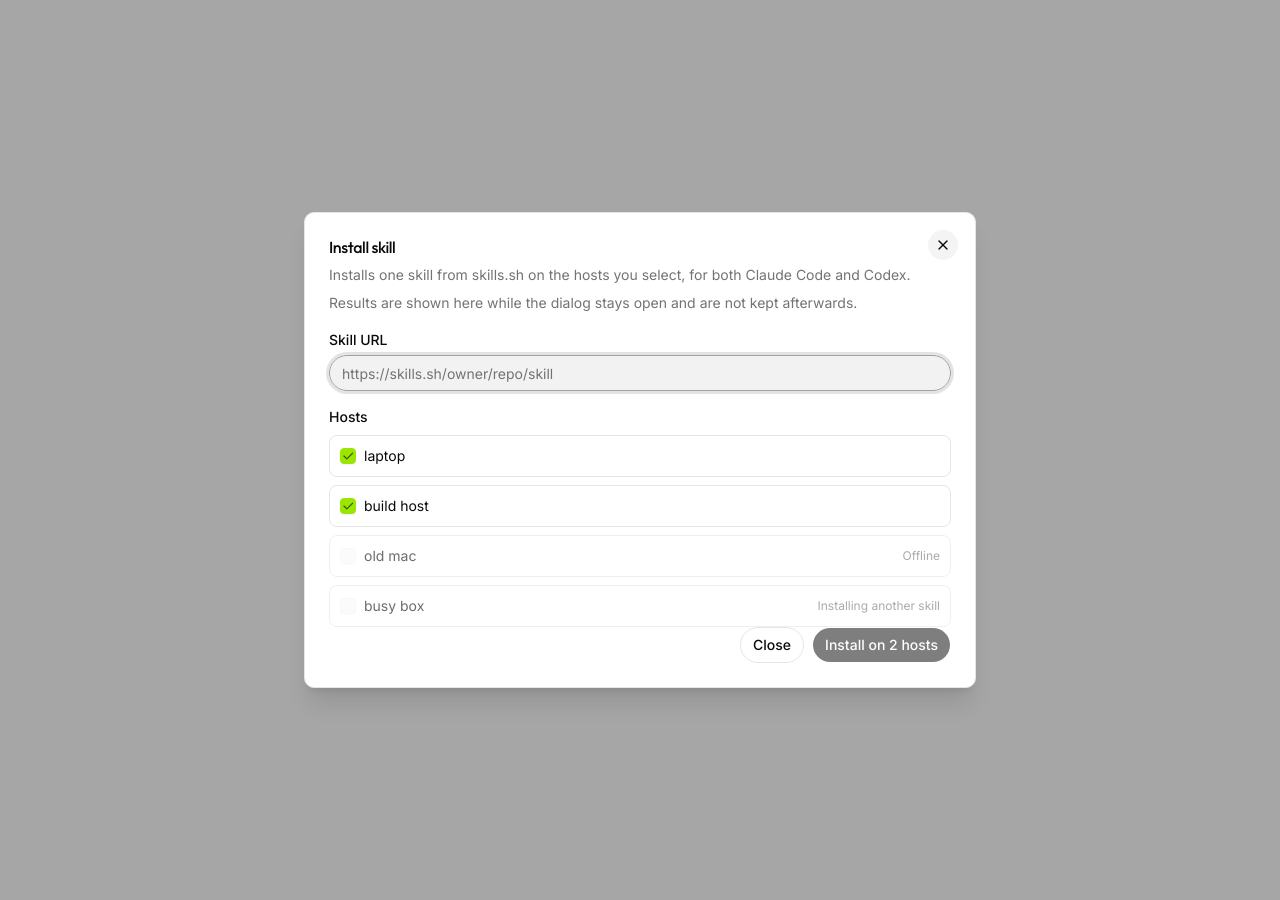
Scenario: InstallSkillDialog › requires explicit risk acceptance when audits are not all current and passing
The width and height of the screenshot is (1280, 900).
Step 1. Type "https://skills.sh/anthropics/skills/pdf" into the field labelled "Skill URL" → [640, 373], box [329,355,951,391]
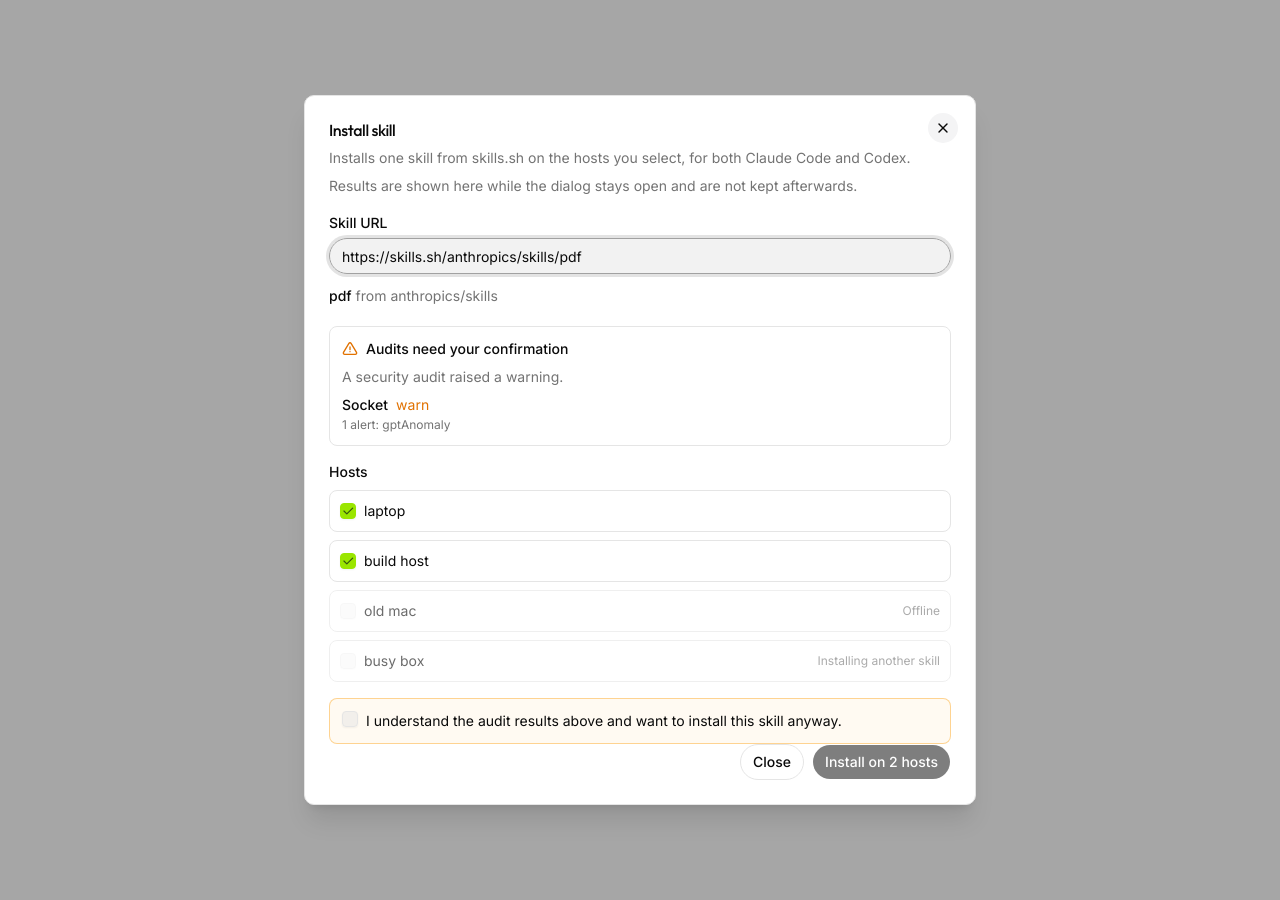
Expected: the button "Install on 2 hosts" is disabled, [812,744,951,780]
Expected: the text "Audits need your confirmation" is shown, [342,340,568,357]
Expected: the text "1 alert: gptAnomaly" is shown, [342,417,450,432]
Step 2. Click the checkbox named "Accept the risk and install anyway" → [350, 719], box [342,711,358,727]
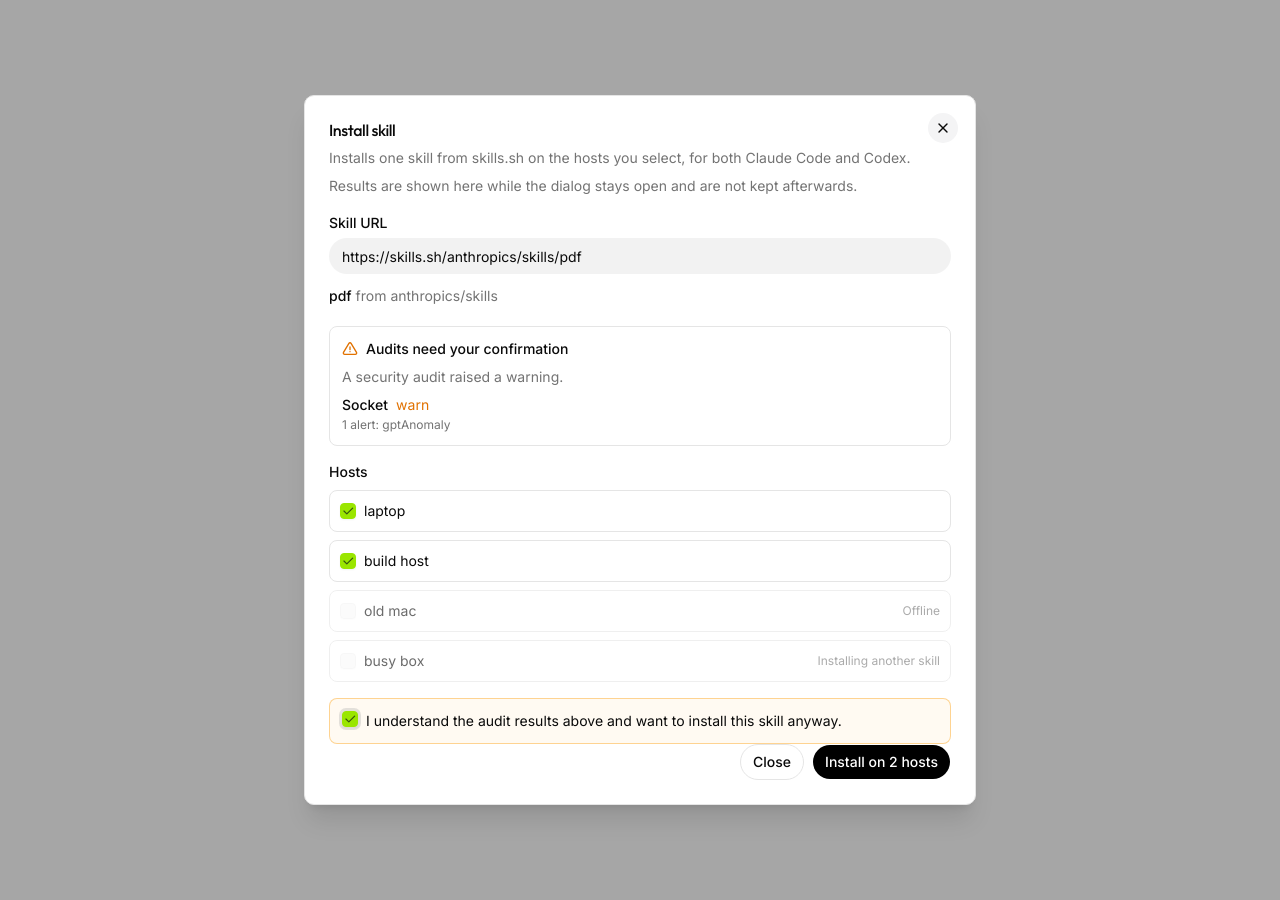
Expected: the button "Install on 2 hosts" is enabled, [812,744,951,780]
